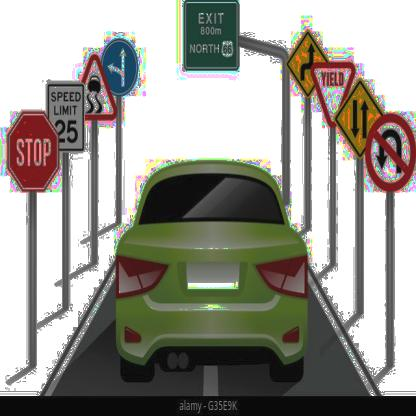No U-turn: (366, 116, 415, 191)
